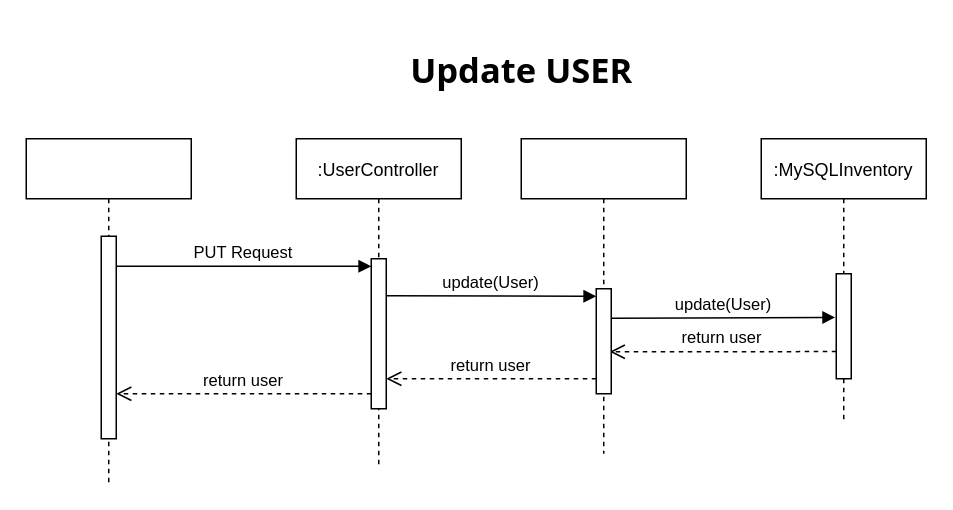
The diagram is 953 pixels wide and 510 high, and some of its shapes have lost their labels. The shapes that lost their labels are listed below. From the top down, each one's box as (x1, y1, x2, y2) in pixels, then its label:
(25, 137, 191, 484): :WebApp
(520, 137, 686, 454): :UserService
